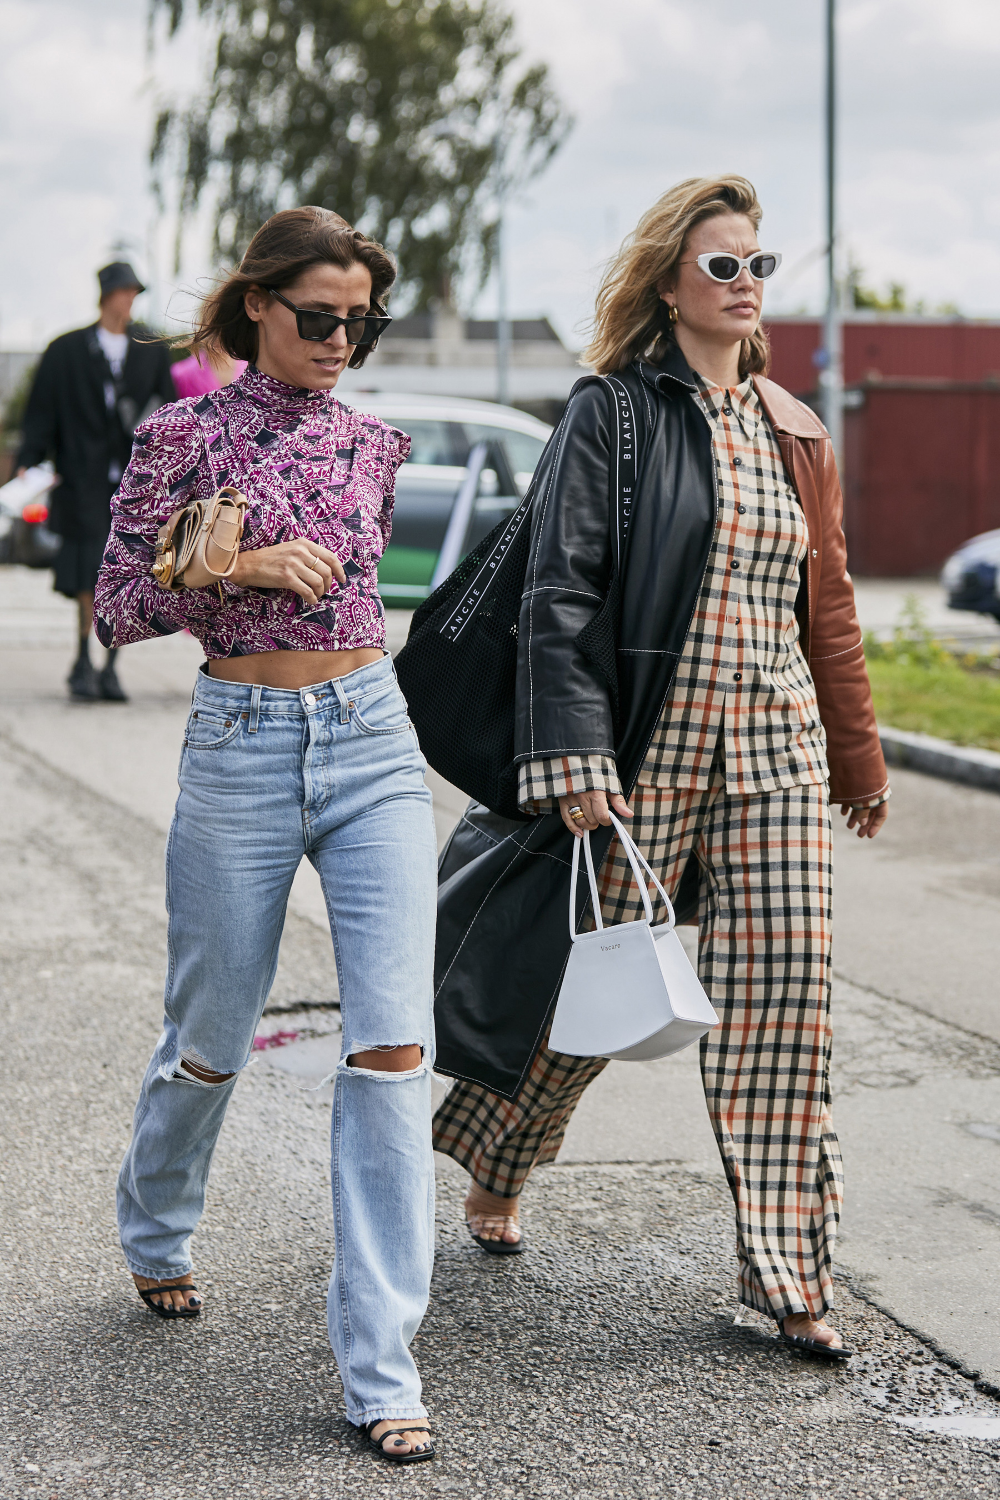Person: (413, 167, 921, 1394), (64, 187, 481, 1477)
